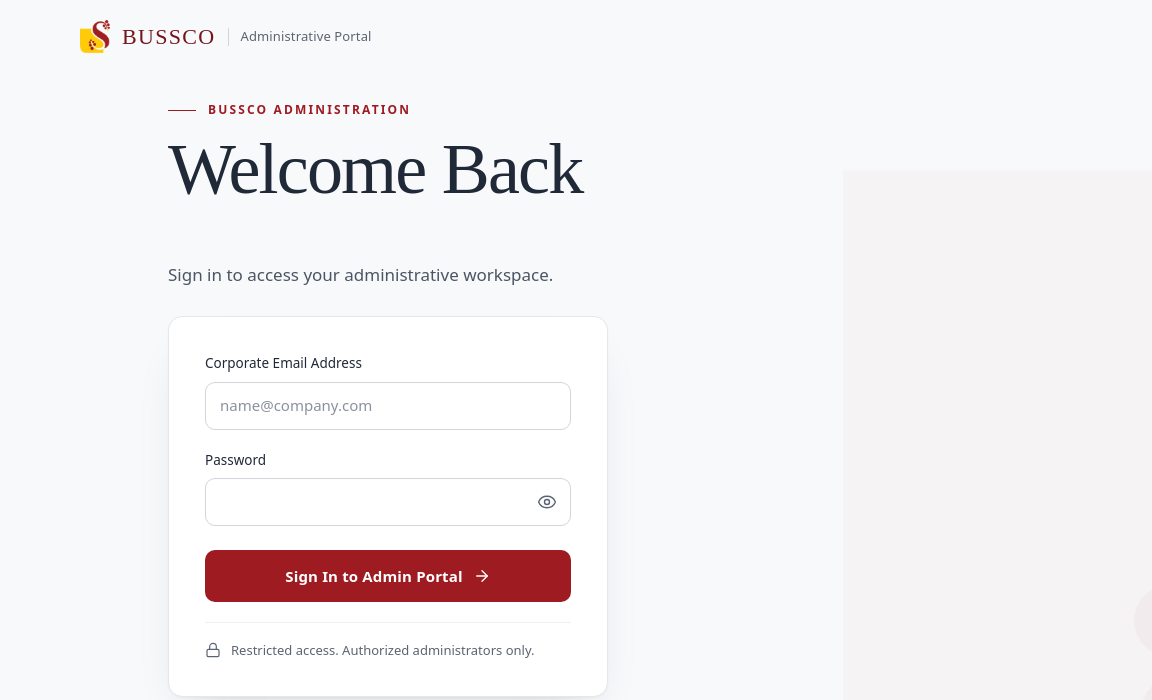
Test case: AdminLoginPage › explains rate limits, rejected requests and lost connections
This screenshot has width=1152, height=700.
Expected: the heading "Welcome Back" is shown, [168, 133, 652, 248]
Type " Sam@Example.com " into the field labelled "Corporate Email Address" at (388, 406), box [205, 382, 571, 430]
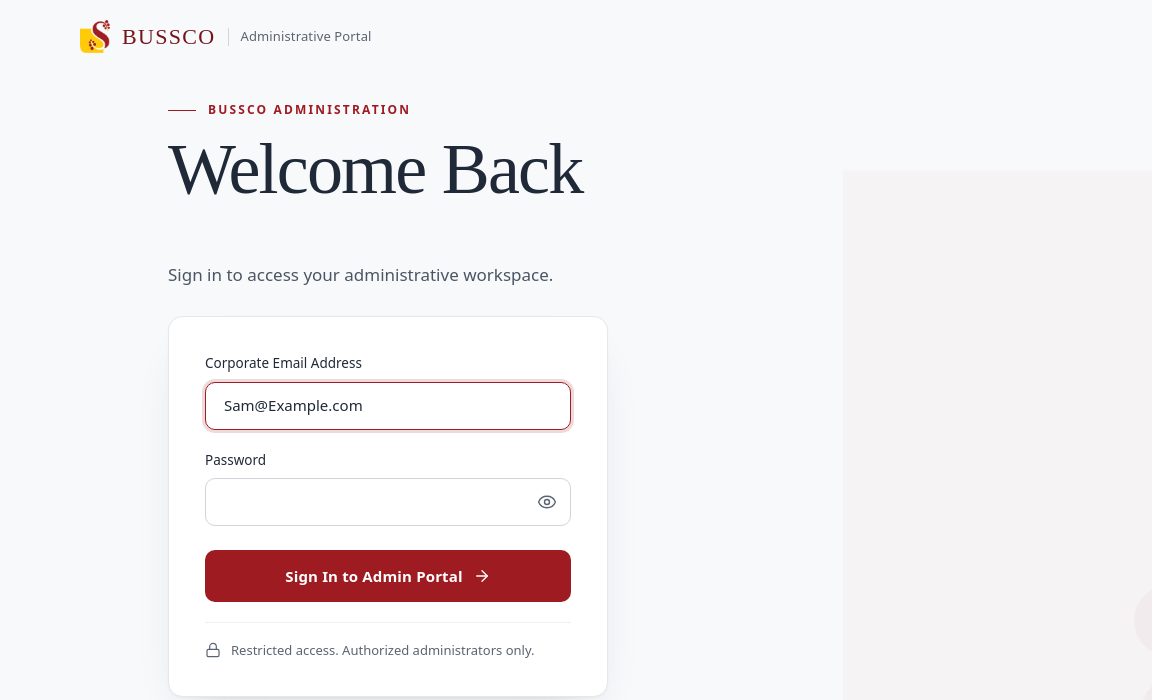
Type "a password" into the password field labelled "Password" at (388, 502), box [205, 478, 571, 526]
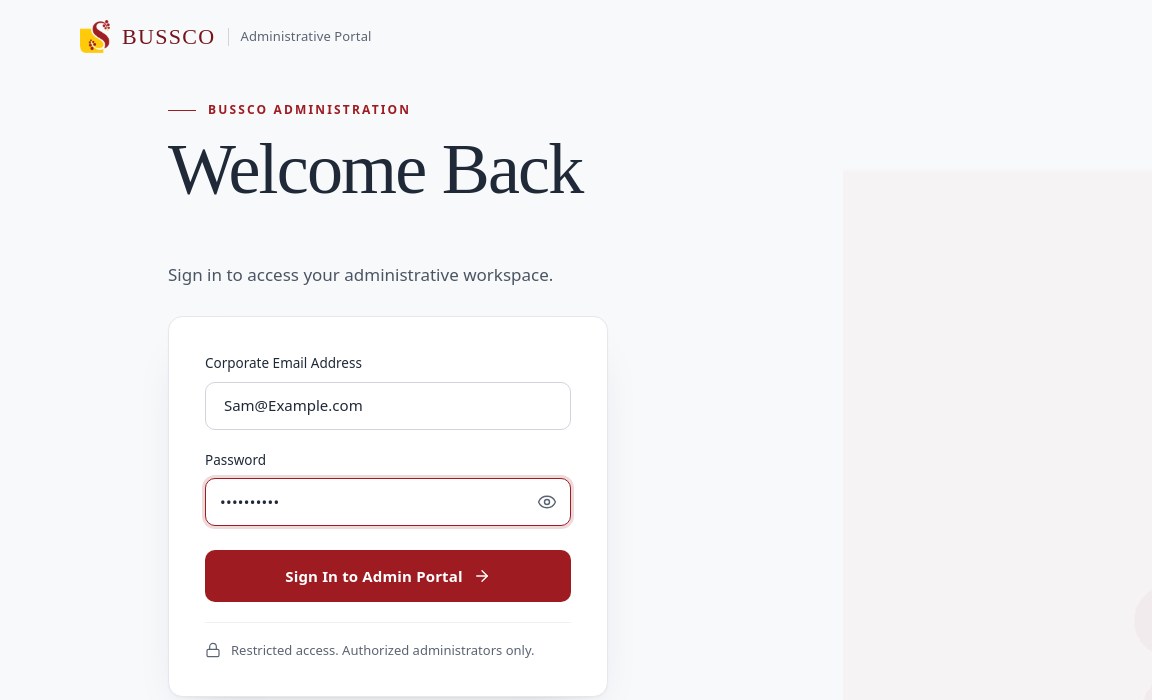
Click the button "Sign In to Admin Portal" at (388, 576), box [205, 550, 571, 602]
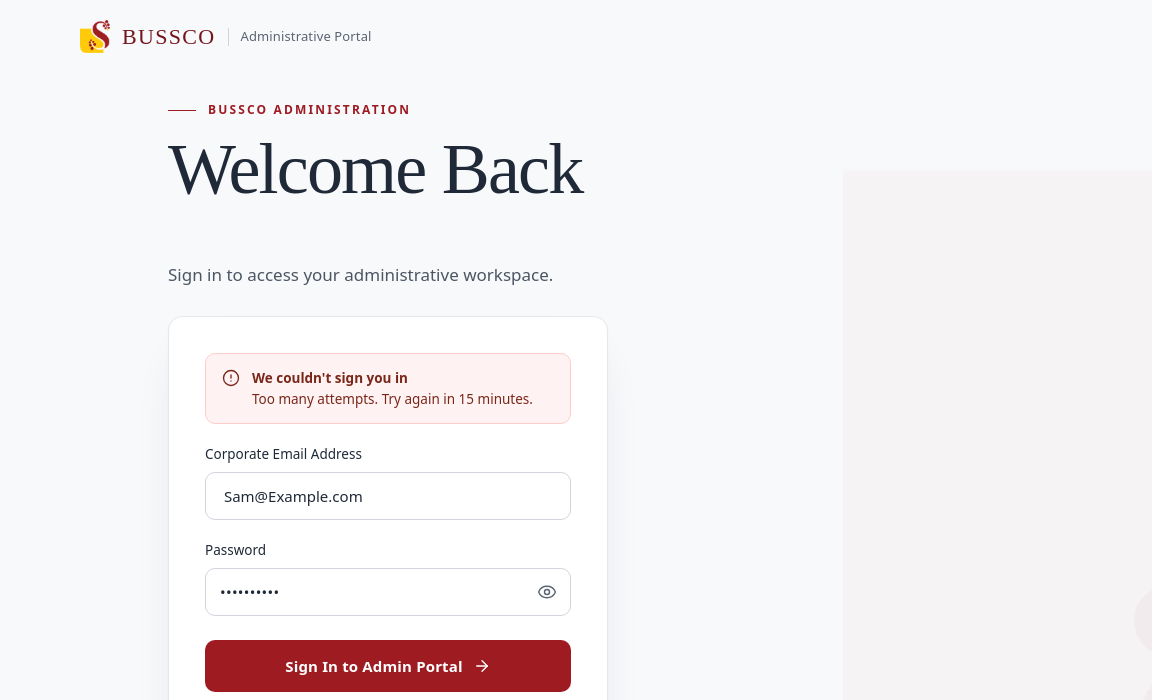
Now the message shows "Too many attempts. Try again in 15 minutes.", box [252, 390, 533, 408]
Type "a password" into the password field labelled "Password" at (388, 592), box [205, 568, 571, 616]
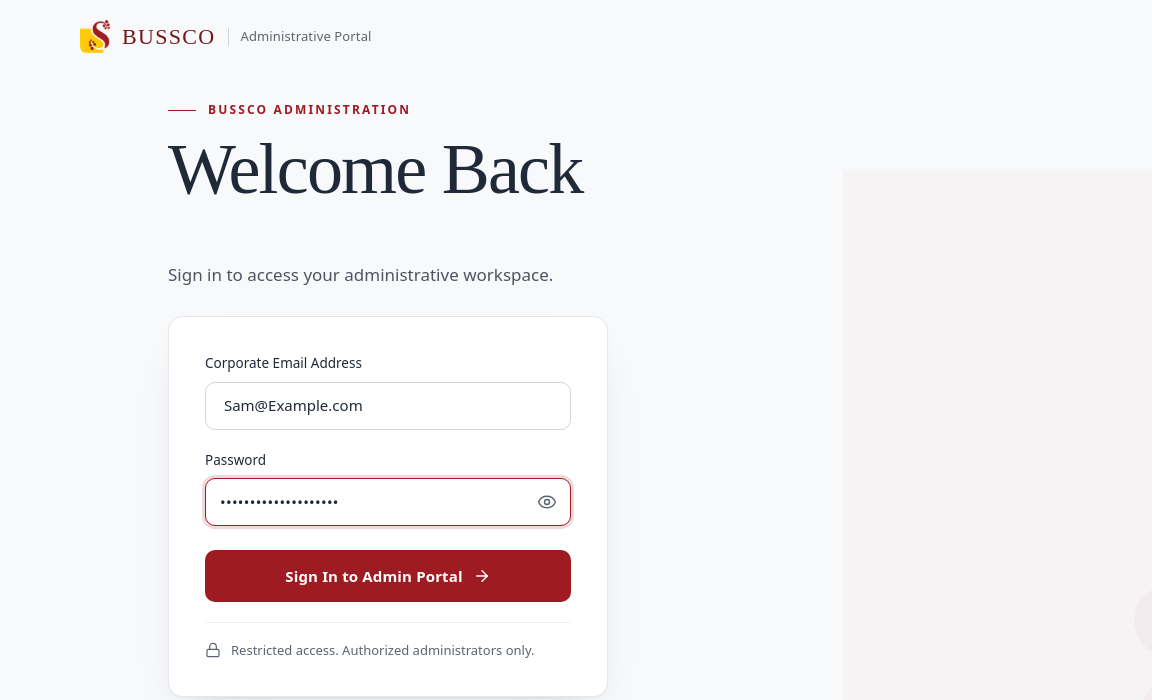
Click the button "Sign In to Admin Portal" at (388, 576), box [205, 550, 571, 602]
(page scrolled)
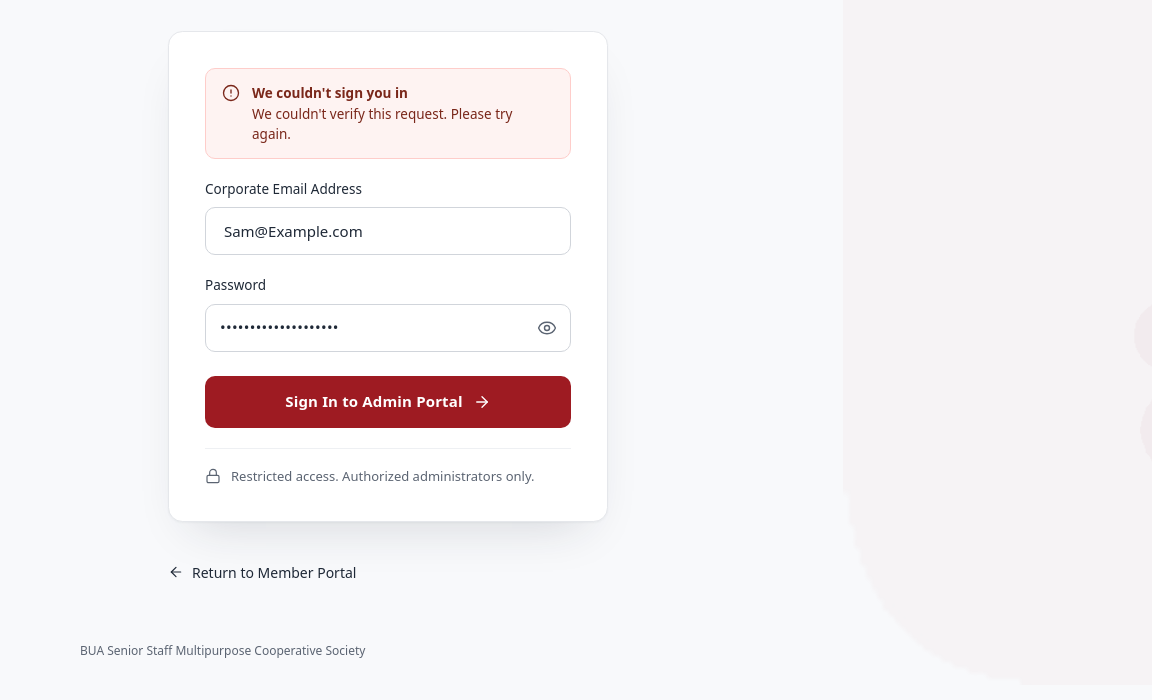
Now the message shows "We couldn't verify this request. Please try again.", box [252, 105, 512, 143]
Click the button "Sign In to Admin Portal" at (388, 402), box [205, 376, 571, 428]
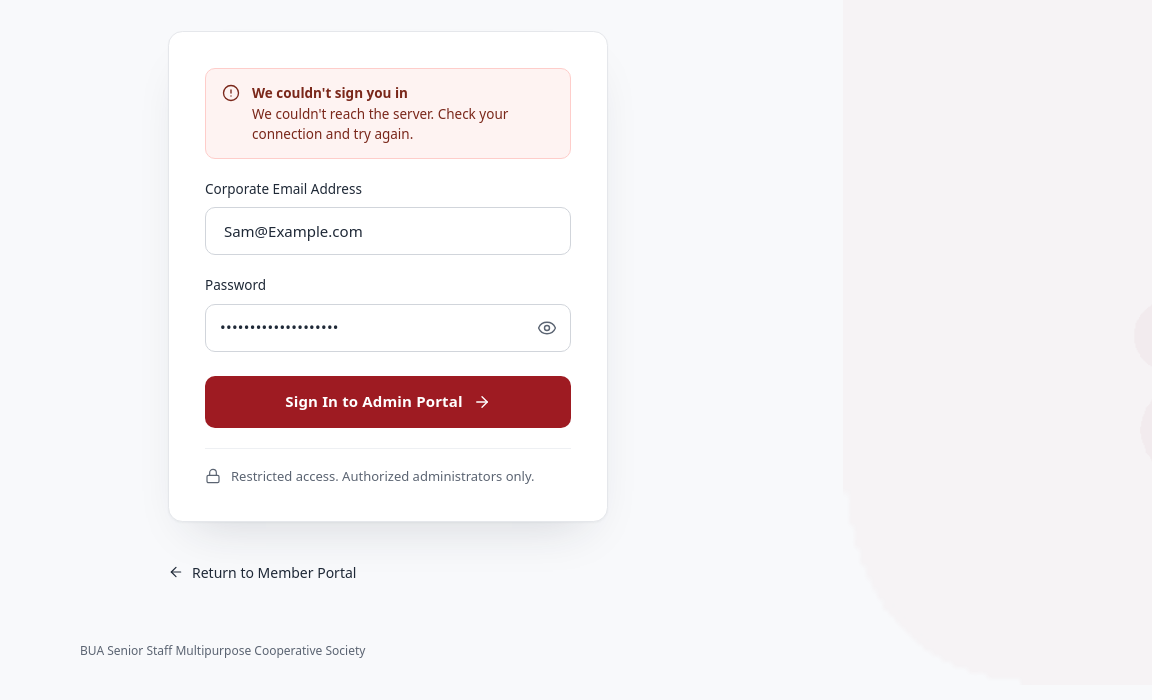
Now the message shows "We couldn't reach the server.", box [252, 105, 508, 143]
